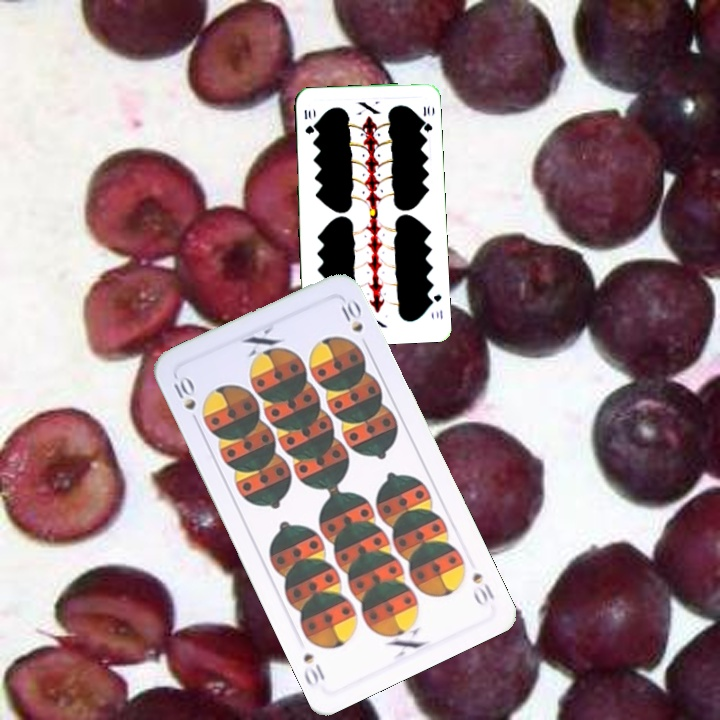G10: (426, 290, 445, 322), (300, 106, 316, 136)
S10: (169, 372, 202, 428), (468, 568, 497, 609)
